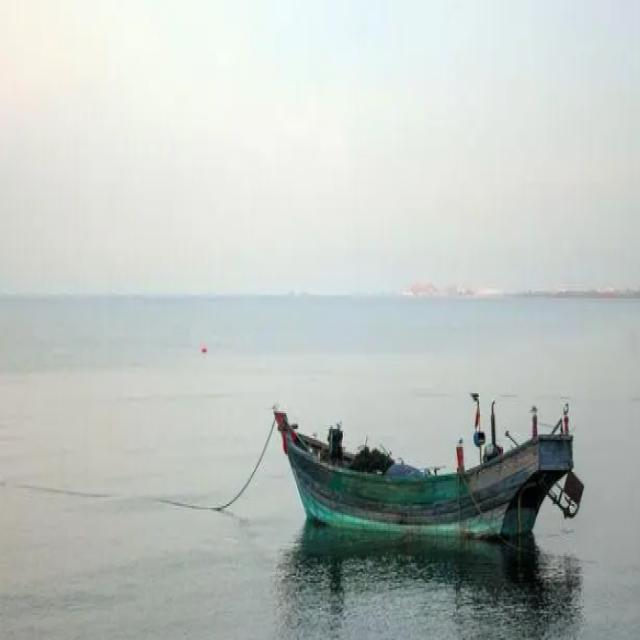fishing boat: (272, 380, 588, 544)
